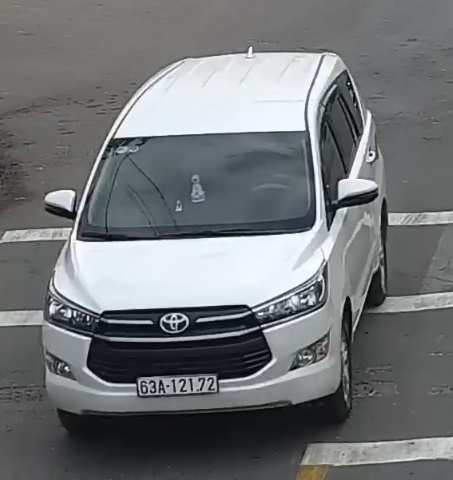vehicle plate: (131, 369, 222, 399)
